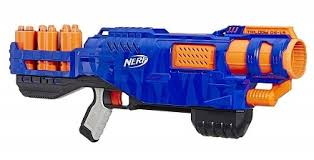Arma Falsa: (7, 22, 309, 143)
